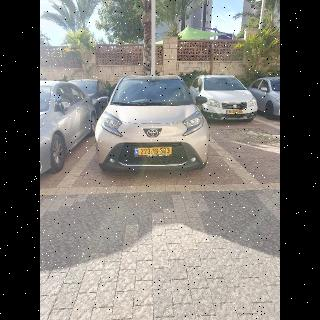LicensePlate: (139, 148, 172, 155)
